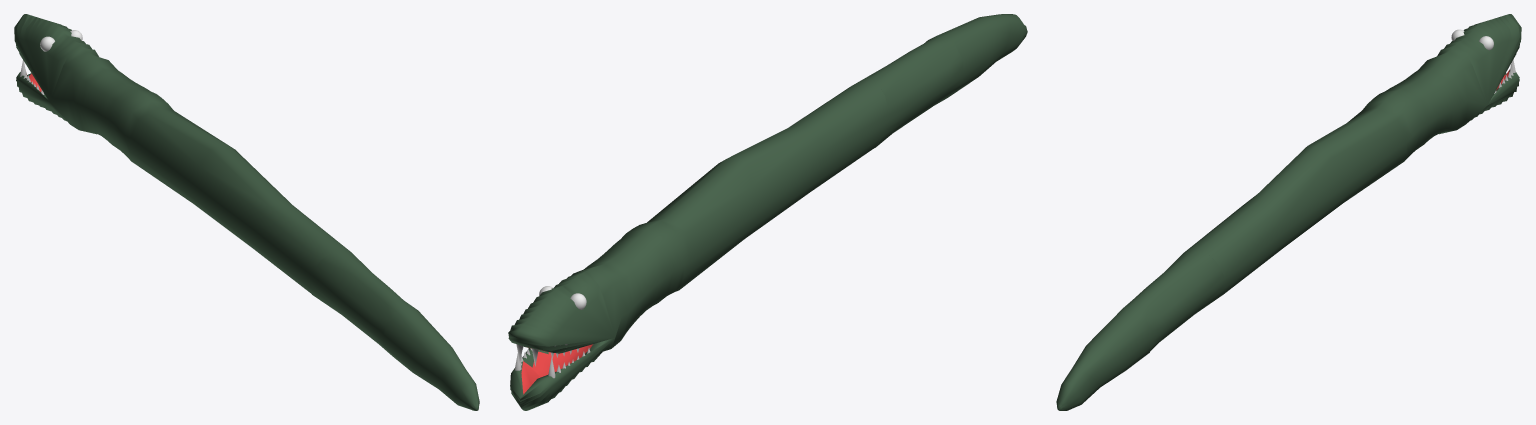
File: cobra 2.fbx
3 views of the same model, side by side, from view 1: azimuth 30°, elevation 25°; view 2: azimuth 150°, elevation 25°; view 3: azimuth 330°, elevation 25° (orthographic). The views are drawn at different scales.
Parts seen in each view (by area): view 1: pCube1; view 2: pCube1; view 3: pCube1.
Boxes of the visible parts, x1,y1,x2,y2 form: pCube1: (14, 14, 479, 410); pCube1: (508, 14, 1027, 410); pCube1: (1056, 14, 1521, 410).
Size of the model in its own units: 0.8509 by 1.2 by 10.83.
